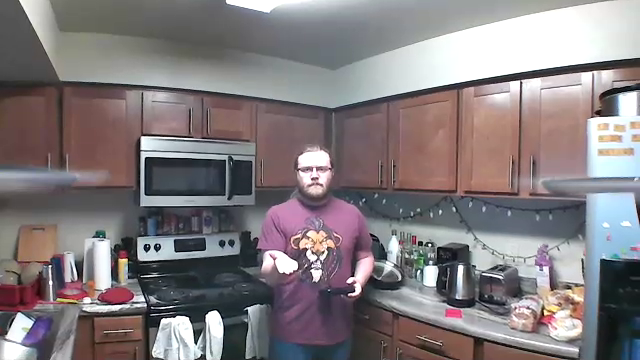land: (266, 250, 303, 282)
